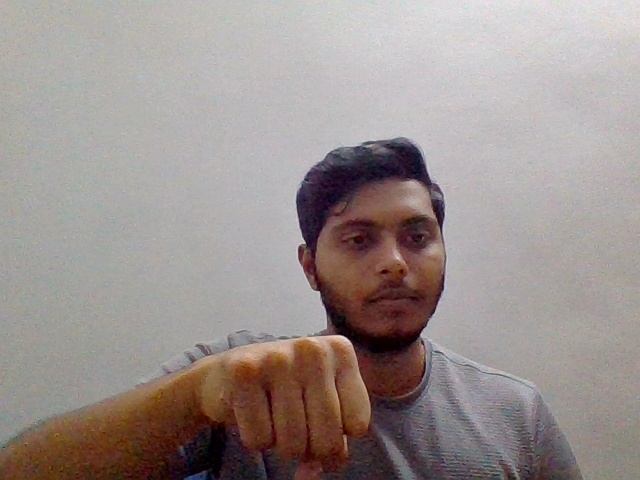Yes: (179, 331, 381, 480)
